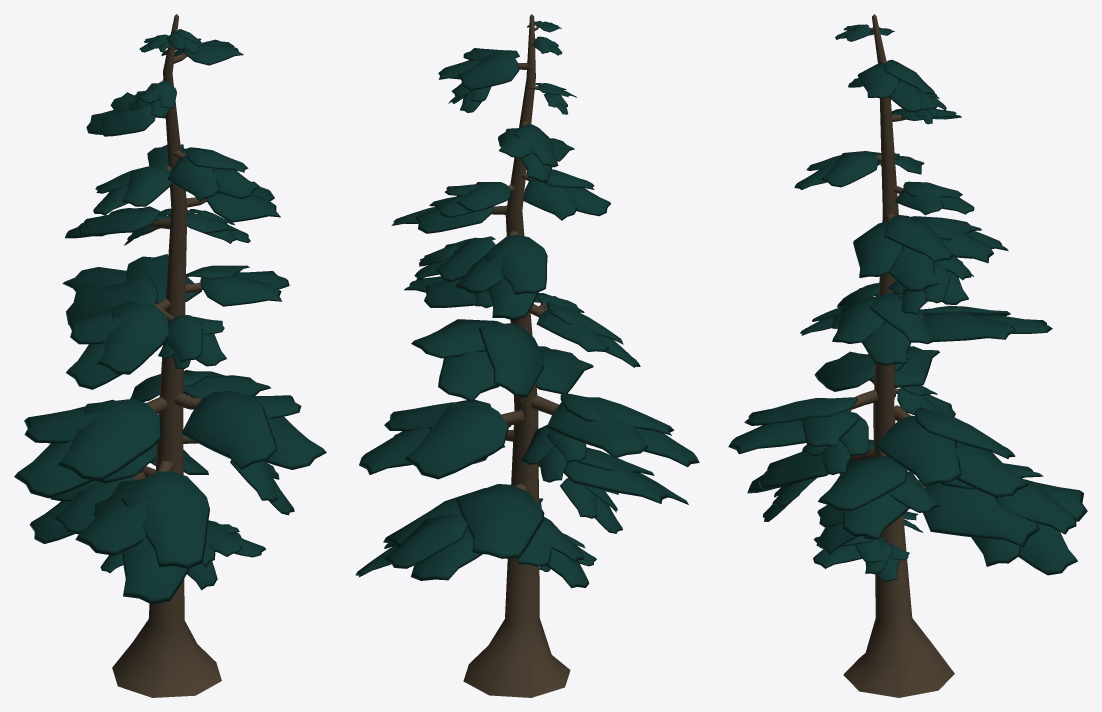
File: Tree3.fbx
The picture shows the model from 3 angles, left to right: view 1: azimuth 30°, elevation 25°; view 2: azimuth 150°, elevation 25°; view 3: azimuth 270°, elevation 25°; orthographic projection. The views are drawn at different scales.
Visible parts, largest first — view 1: Tree1; view 2: Tree1; view 3: Tree1.
Boxes of the visible parts, left/top/right/bottom form: Tree1: left=14, top=14, right=326, bottom=697; Tree1: left=355, top=14, right=699, bottom=697; Tree1: left=728, top=14, right=1087, bottom=697.
Bounding box in the file's own units: 1872 × 3981 × 1967.
